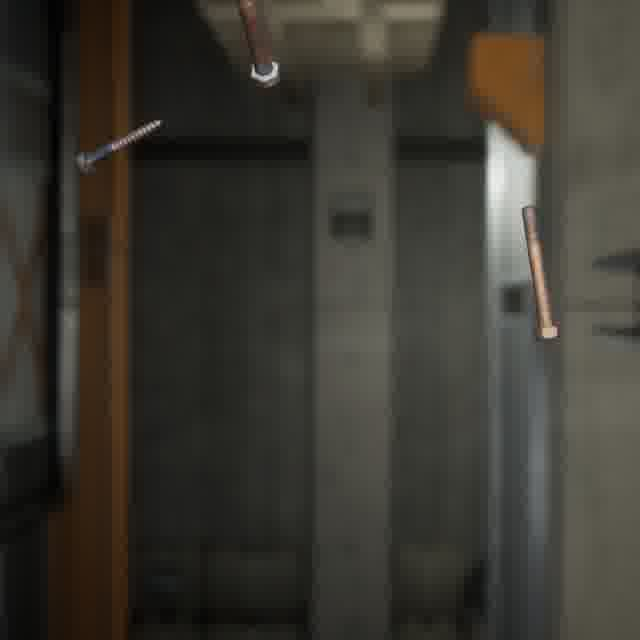bolt: (517, 201, 567, 344), (71, 114, 167, 178), (232, 0, 283, 92)
